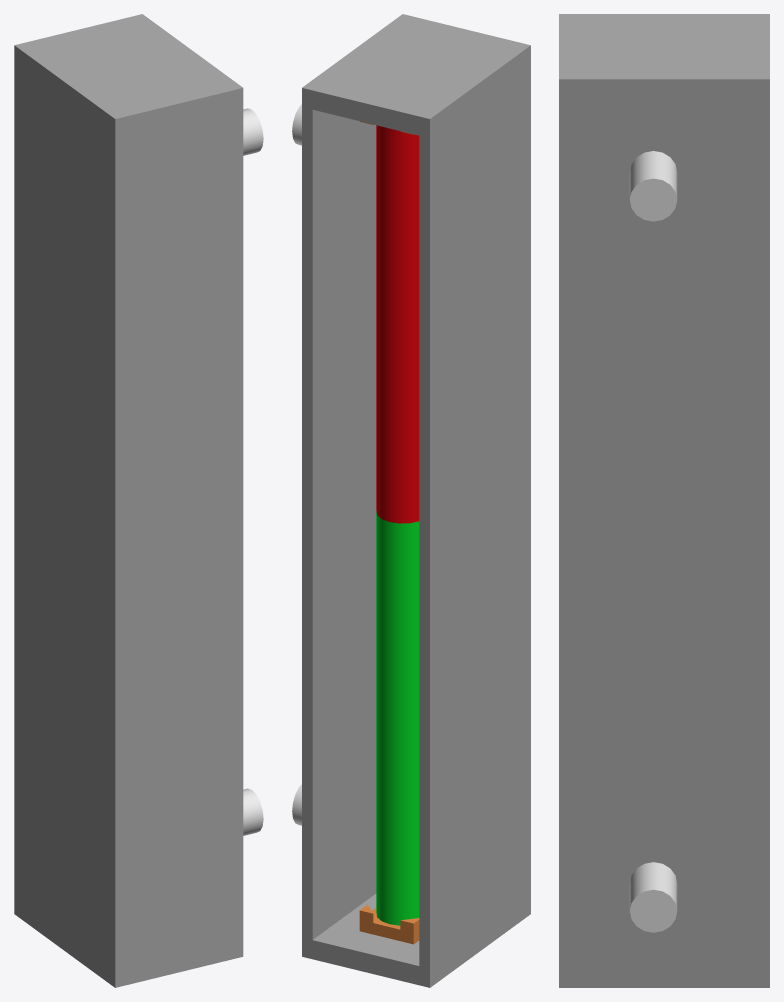
Rendered from benzyna.fbx.
3 renders of one model, left to right at view 1: azimuth 30°, elevation 25°; view 2: azimuth 150°, elevation 25°; view 3: azimuth 270°, elevation 25°, orthographic. The views are drawn at different scales.
Visible parts, largest first — view 1: Cube.006, Cylinder.006, Cylinder.005; view 2: Cube.006, Cylinder.007, Cylinder.004, Cube.007; view 3: Cube.006, Cylinder.006, Cylinder.005.
Part boxes in pixels (x1,y1,x2,y2): Cube.006: [14, 14, 243, 987]; Cylinder.006: [243, 788, 263, 835]; Cylinder.005: [243, 108, 263, 155]; Cube.006: [302, 14, 530, 987]; Cylinder.007: [376, 511, 419, 925]; Cylinder.004: [376, 125, 419, 523]; Cube.007: [359, 121, 419, 944]; Cube.006: [559, 14, 769, 987]; Cylinder.006: [629, 862, 677, 932]; Cylinder.005: [629, 151, 677, 221].
Size of the model in its own units: 9.26 by 42.17 by 8.88.
